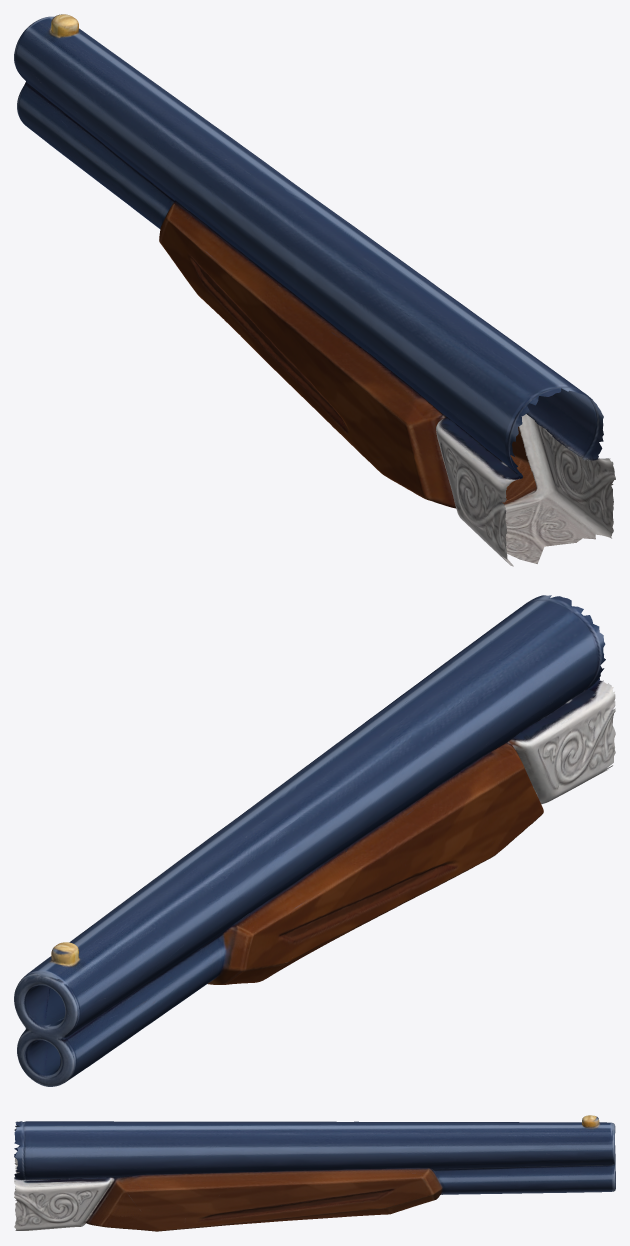
Rendered from coach_shotgun_barrels.glb.
3 views of the same model, one above another, from view 1: azimuth 30°, elevation 25°; view 2: azimuth 150°, elevation 25°; view 3: azimuth 270°, elevation 25° (orthographic). The views are drawn at different scales.
Visible parts, largest first — view 1: barrels; view 2: barrels; view 3: barrels.
Part boxes in pixels (bbox=[...]): barrels: bbox=[14, 14, 615, 566]; barrels: bbox=[14, 595, 615, 1086]; barrels: bbox=[14, 1115, 615, 1231].
Bounding box in the file's own units: 0.0585 × 0.0866 × 0.44.
1 material, 1 textured.
